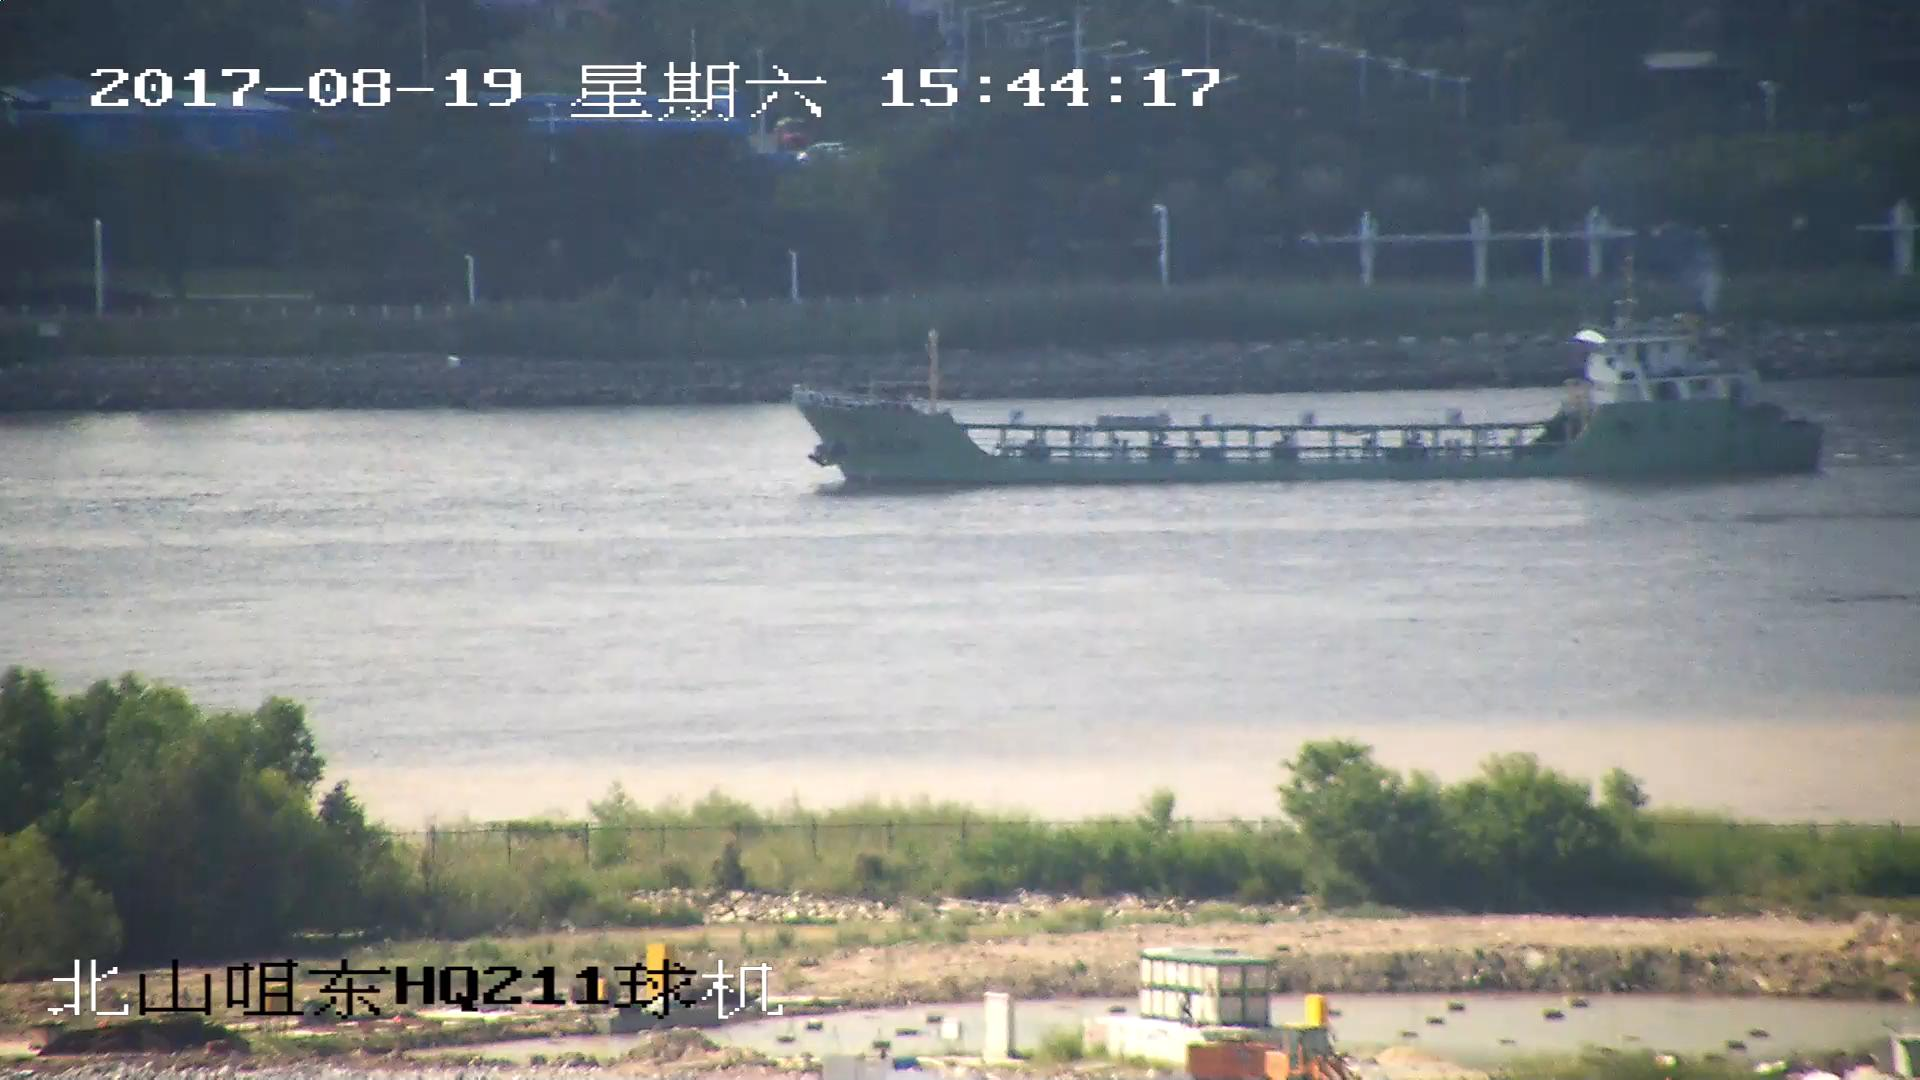general cargo ship: (789, 283, 1822, 492)
